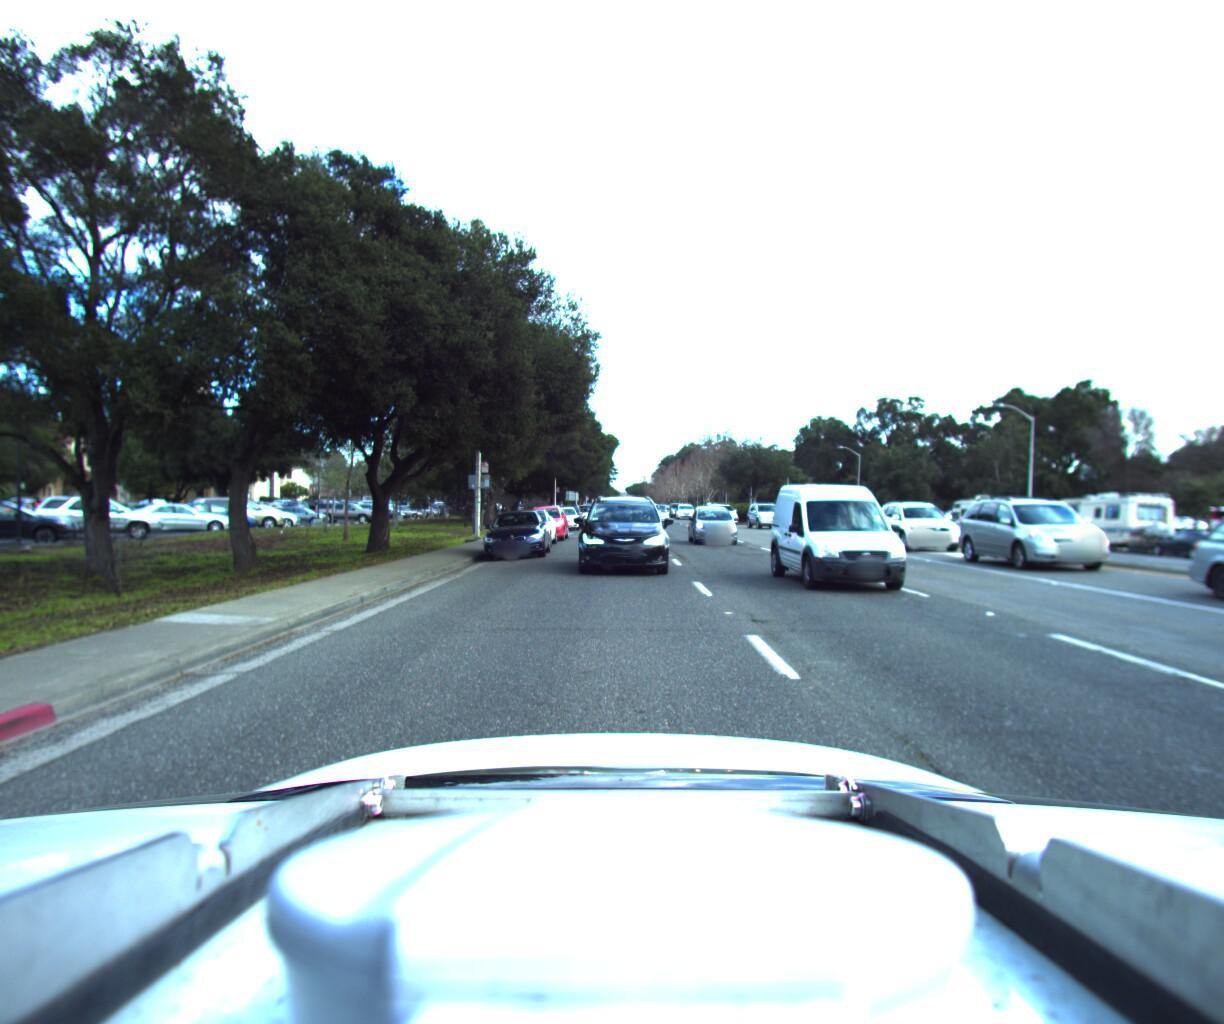car: (777, 468, 956, 603), (952, 488, 1123, 571), (576, 490, 670, 577), (1185, 491, 1224, 631), (868, 494, 966, 547), (477, 502, 557, 557), (1140, 519, 1224, 554), (501, 501, 560, 545), (685, 497, 737, 540), (521, 498, 571, 536), (741, 495, 785, 522), (908, 505, 954, 529), (549, 499, 580, 524), (648, 497, 671, 516), (675, 496, 694, 513)
other_vehicle: (1038, 481, 1173, 551), (947, 485, 1031, 535)
